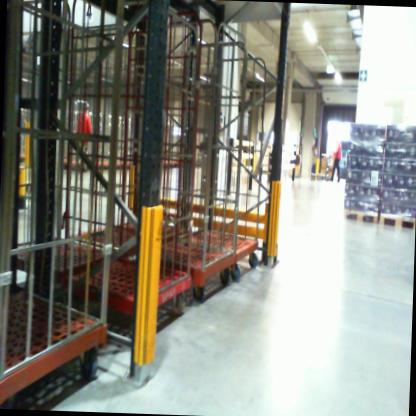pallet: (379, 209, 416, 235), (343, 210, 378, 225)
